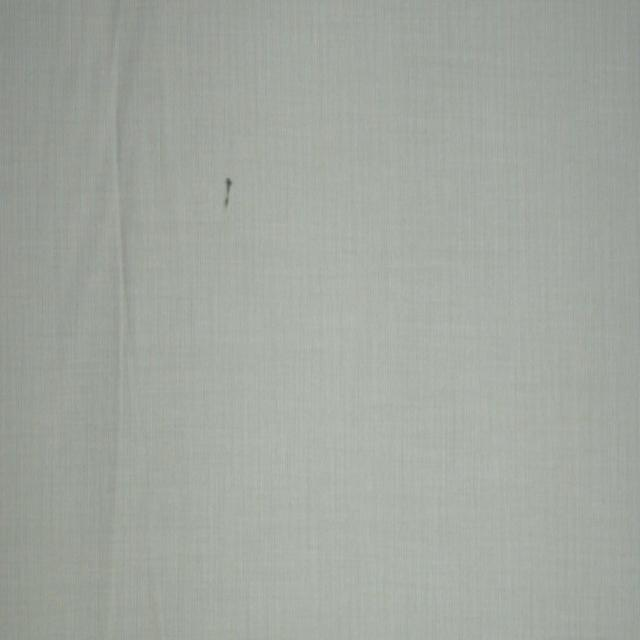dirty: (223, 174, 233, 212)
